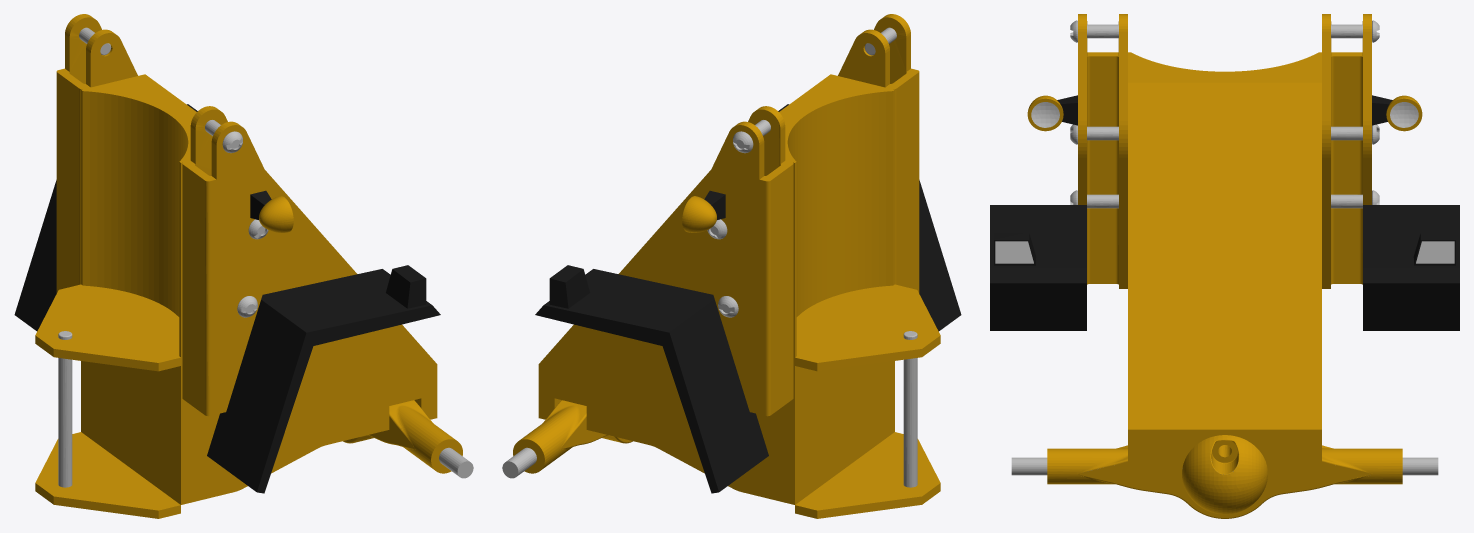
File: front_frame_visual.dae
3 renders of one model, left to right at view 1: azimuth 30°, elevation 25°; view 2: azimuth 150°, elevation 25°; view 3: azimuth 270°, elevation 25°, orthographic. The views are drawn at different scales.
Visible parts, largest first — view 1: SubBody.001; view 2: SubBody.001; view 3: SubBody.001.
Boxes of the visible parts, x1,y1,x2,y2 form: SubBody.001: [14, 14, 473, 518]; SubBody.001: [502, 14, 961, 518]; SubBody.001: [990, 14, 1459, 518].
Bounding box in the file's own units: 5.6 × 6.55 × 6.18.
